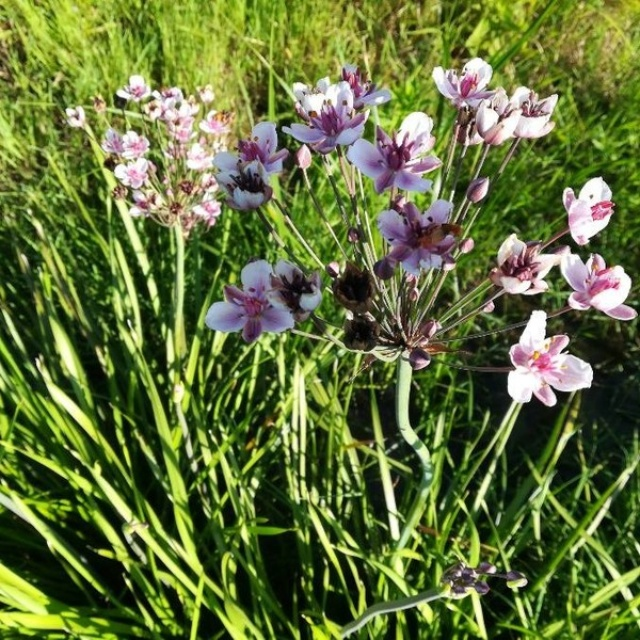obstacle: (67, 49, 625, 461)
